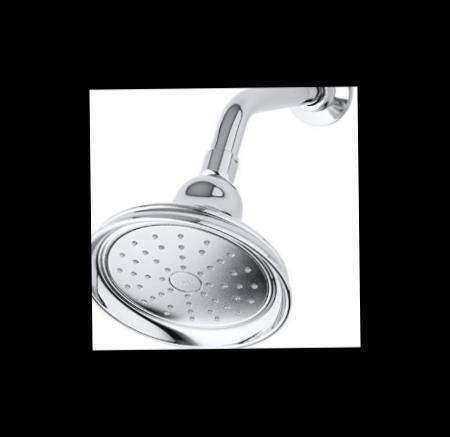Ducha: (89, 87, 360, 350)
